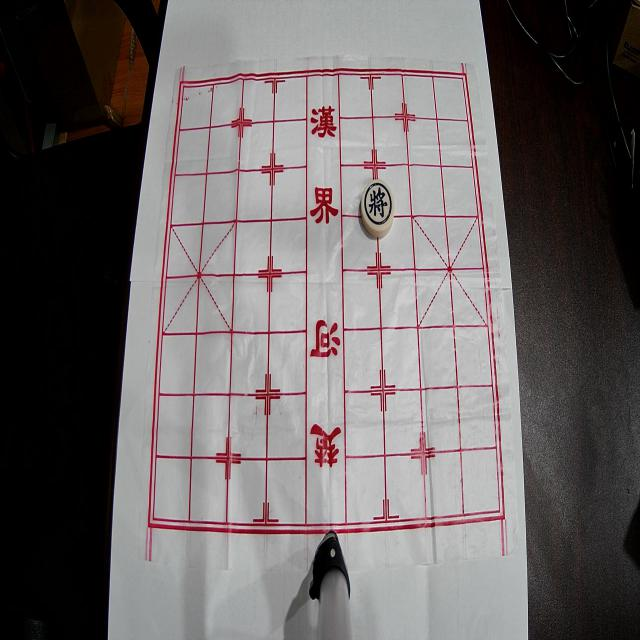black-general: (362, 180, 394, 238)
